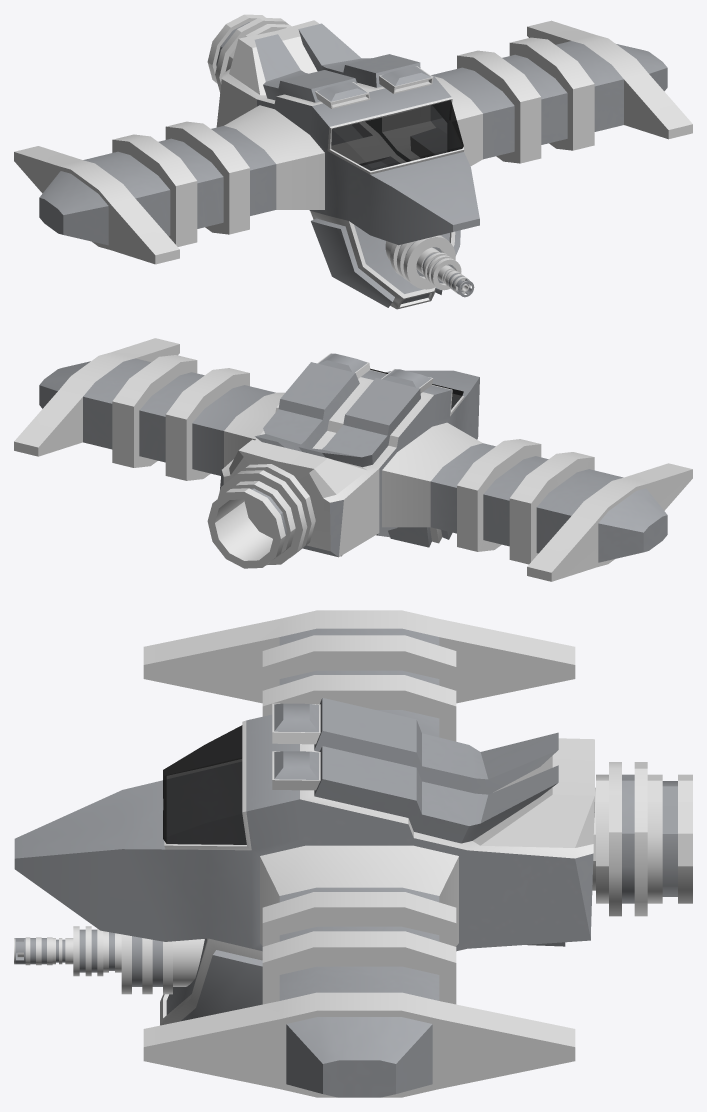
File: CAA.fbx
3 views of the same model, one above another, from view 1: azimuth 30°, elevation 25°; view 2: azimuth 150°, elevation 25°; view 3: azimuth 270°, elevation 25° (orthographic). The views are drawn at different scales.
Visible parts, largest first — view 1: CAA; view 2: CAA; view 3: CAA.
Part boxes in pixels (<box>): CAA: <box>14,14,692,309</box>; CAA: <box>14,338,692,581</box>; CAA: <box>14,610,692,1097</box>.
Bounding box in the file's own units: 8.9 × 2.8 × 5.67.
